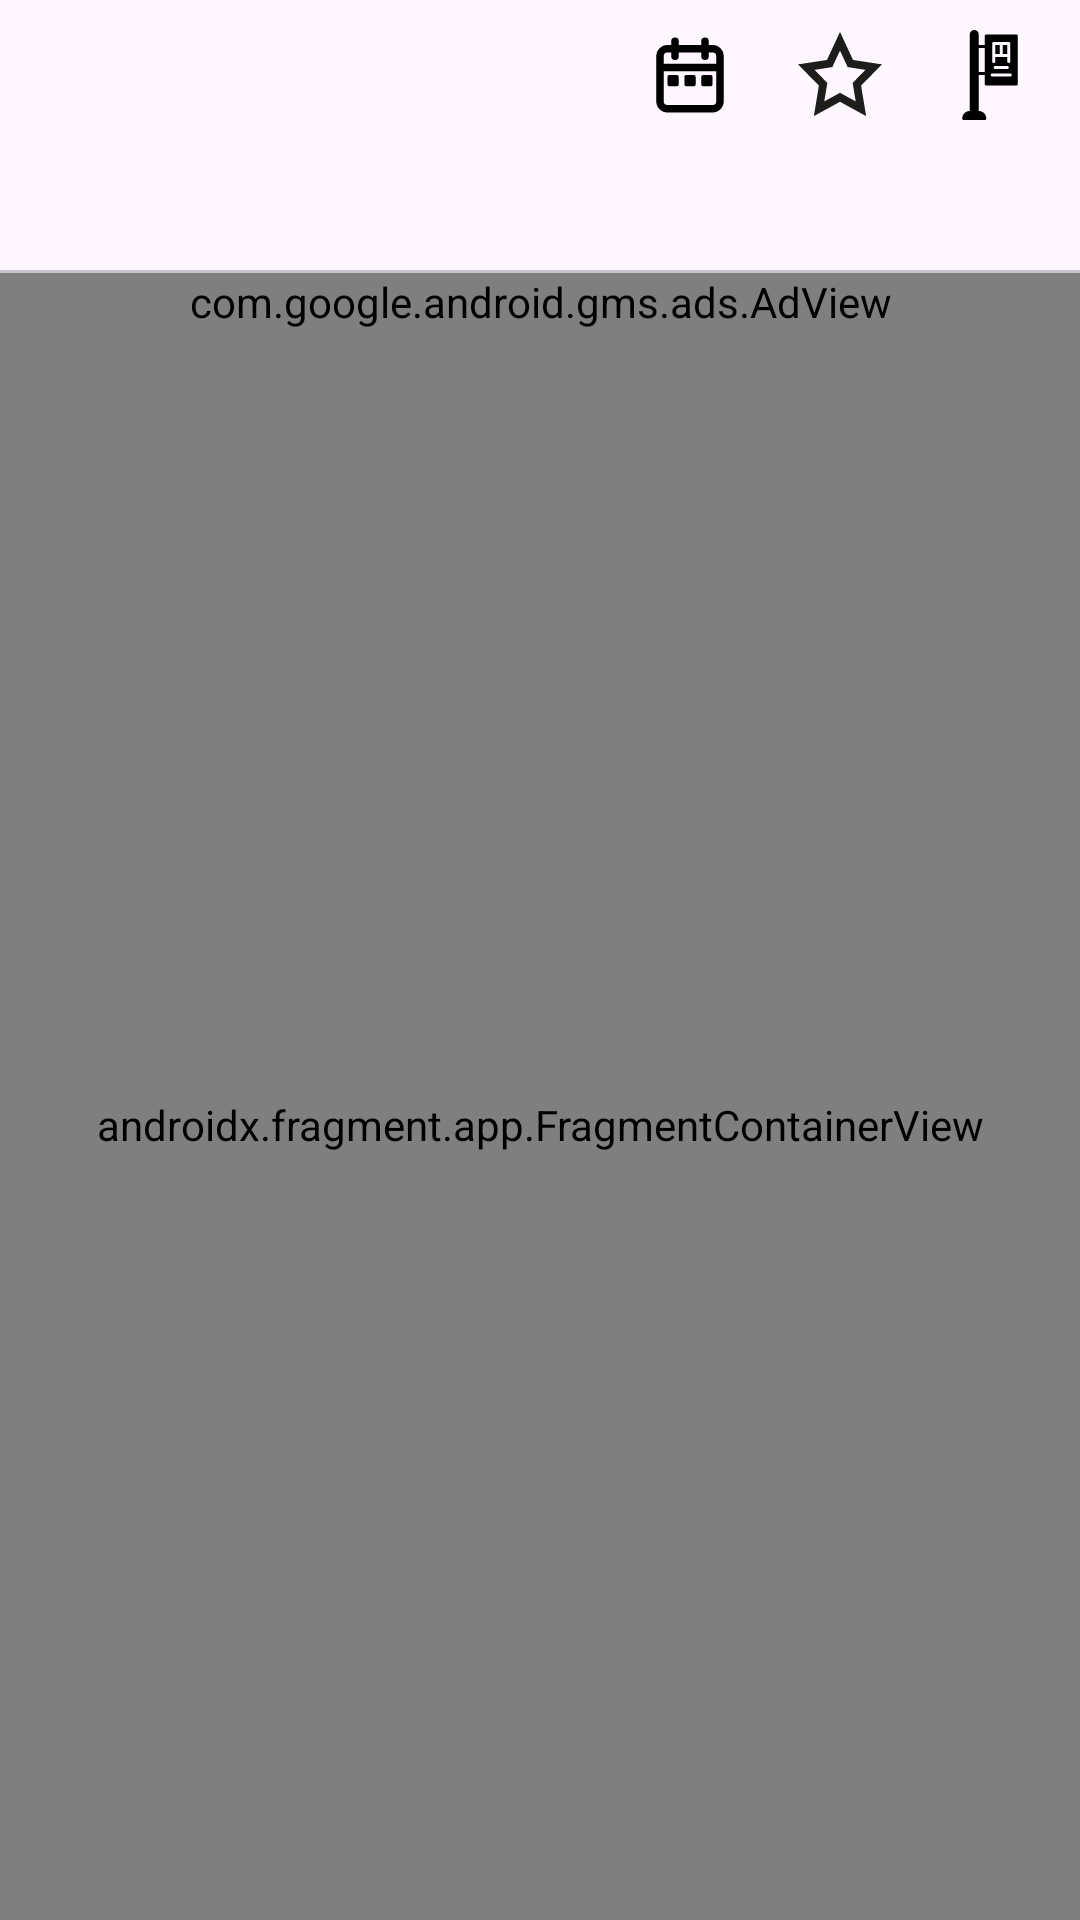

Point at icon controls on the screen. Image size 1080 × 1920, points as (x,y).
Favourites button: (840,74)
Select date: (690,75)
